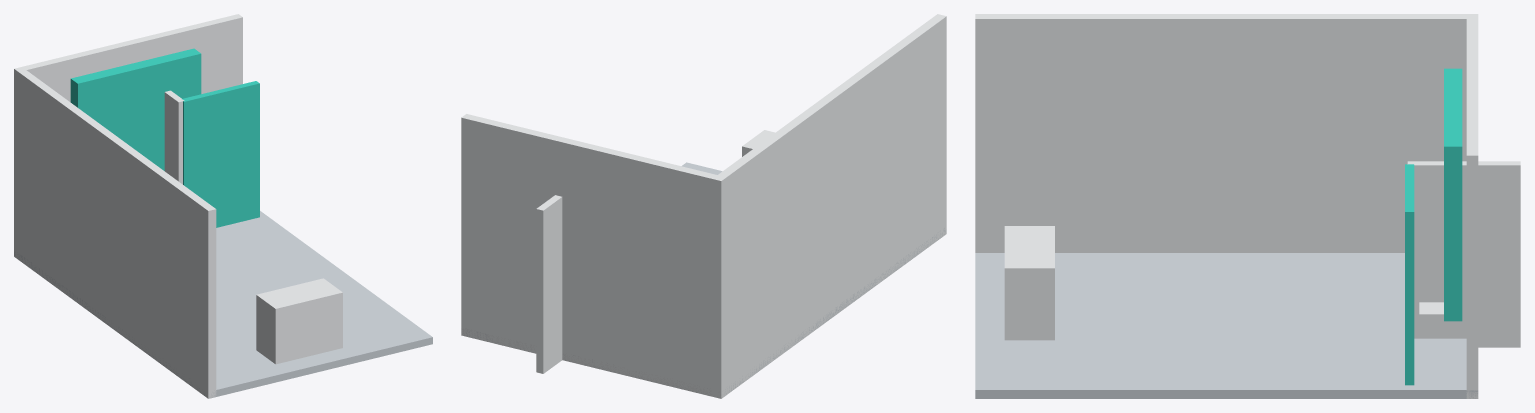
The picture shows the model from 3 angles, left to right: view 1: azimuth 30°, elevation 25°; view 2: azimuth 150°, elevation 25°; view 3: azimuth 270°, elevation 25°; orthographic projection. The views are drawn at different scales.
Visible parts, largest first — view 1: Exhibition Booth Concept; view 2: Exhibition Booth Concept; view 3: Exhibition Booth Concept.
Boxes of the visible parts, <box> form: Exhibition Booth Concept: <box>14,14,432,398</box>; Exhibition Booth Concept: <box>461,14,946,398</box>; Exhibition Booth Concept: <box>975,14,1520,398</box>.
Size of the model in its own units: 4 by 3.2 by 6.51.
